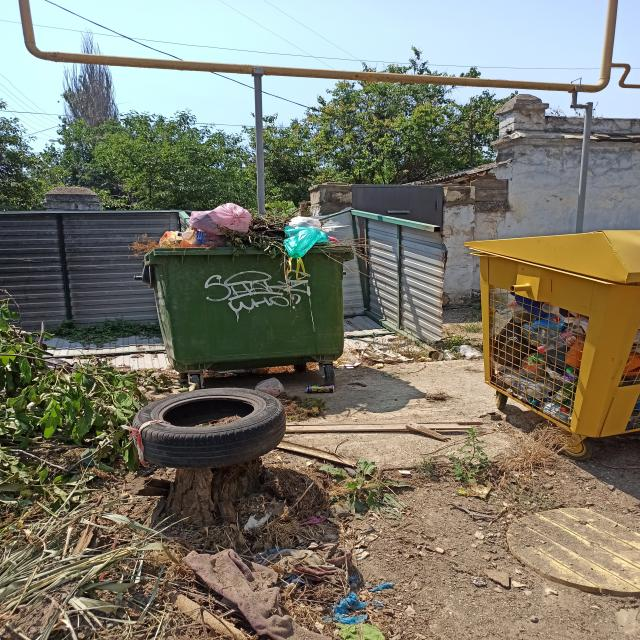bin: (469, 227, 640, 436), (147, 248, 348, 374)
plastic: (0, 520, 416, 639), (491, 286, 587, 425), (133, 201, 354, 254), (365, 348, 481, 359), (254, 376, 287, 395), (302, 384, 337, 392)
